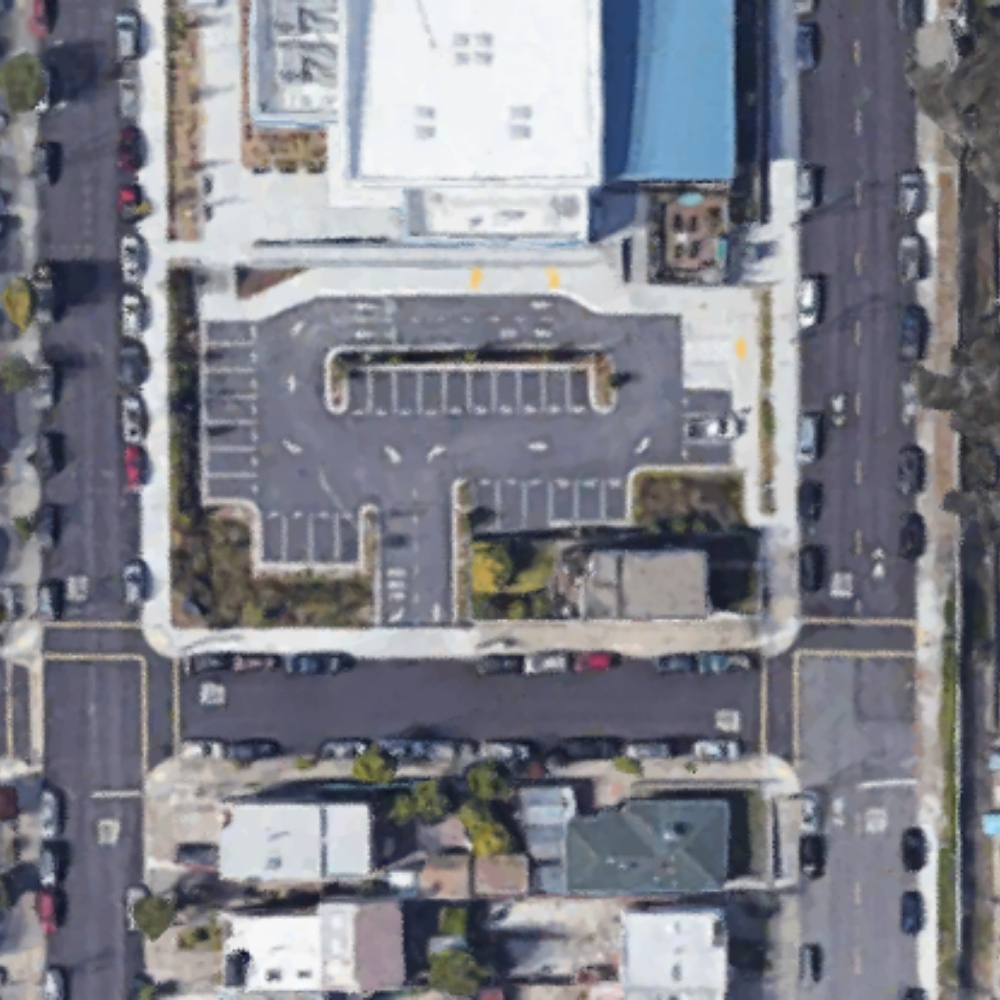parking: (200, 300, 750, 530)
